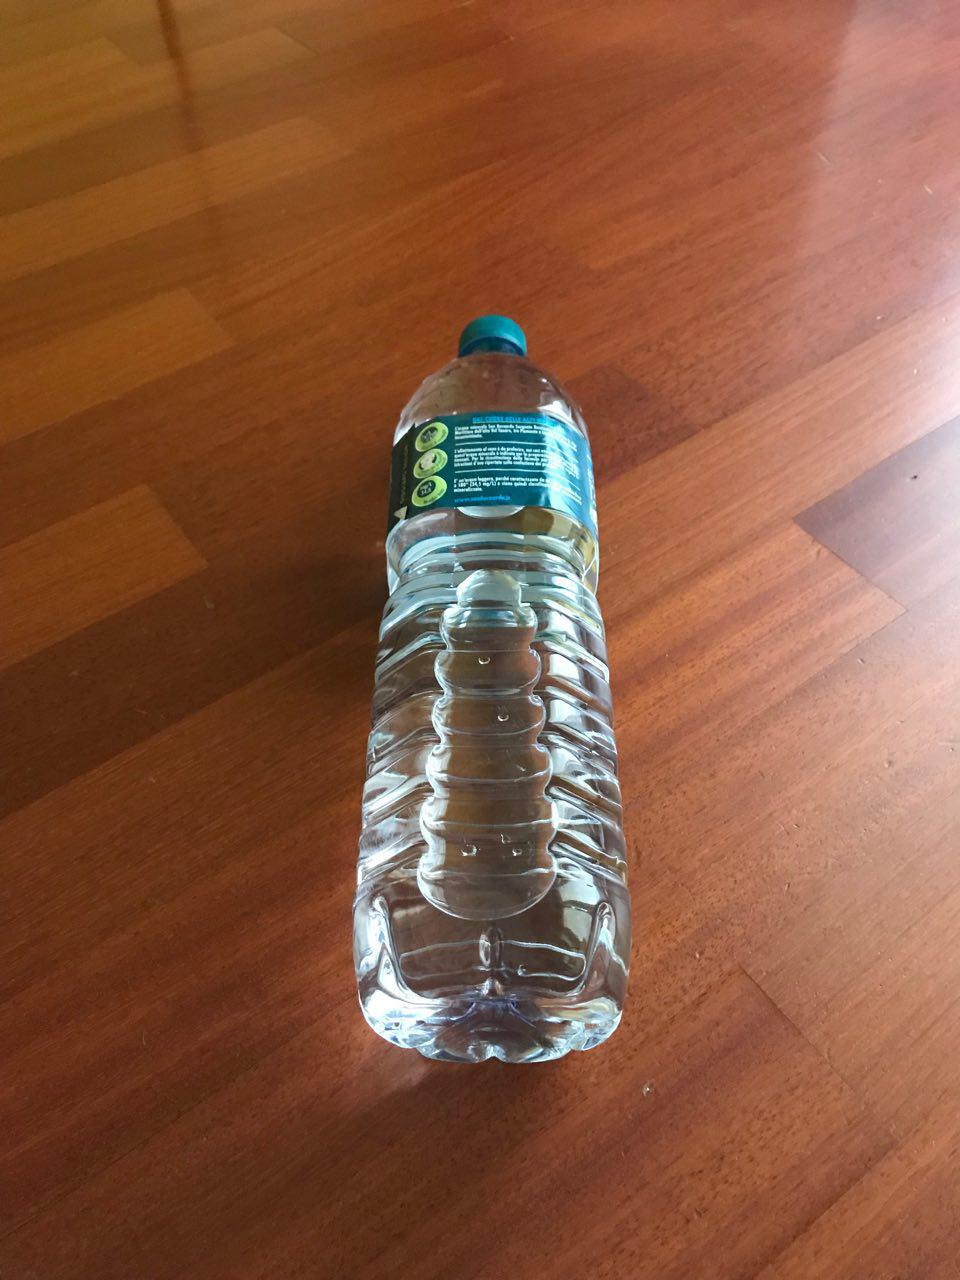san_bernardo: (349, 312, 635, 1069)
